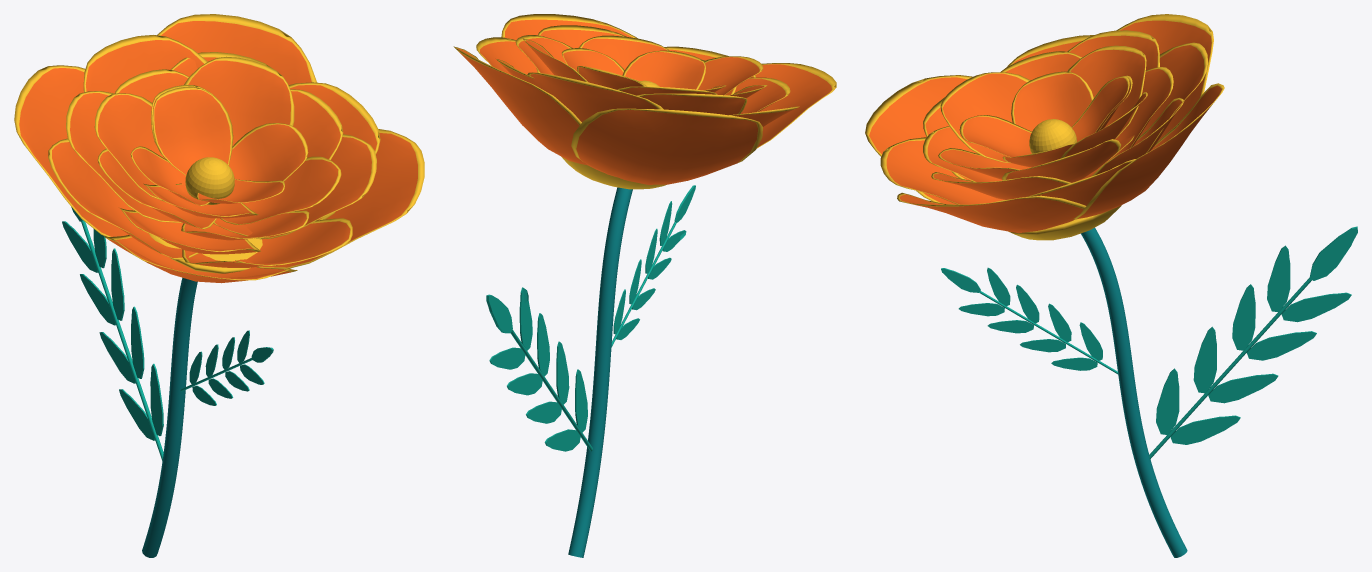
Rendered from Marigold2.fbx.
3 views of the same model, side by side, from view 1: azimuth 30°, elevation 25°; view 2: azimuth 150°, elevation 25°; view 3: azimuth 270°, elevation 25° (orthographic). The views are drawn at different scales.
Visible parts, largest first — view 1: Merigold_United; view 2: Merigold_United; view 3: Merigold_United.
Boxes of the visible parts, x1,y1,x2,y2 form: Merigold_United: (14, 14, 424, 557); Merigold_United: (453, 14, 836, 557); Merigold_United: (865, 14, 1357, 557).
Bounding box in the file's own units: 34.23 × 51.7 × 46.63.
